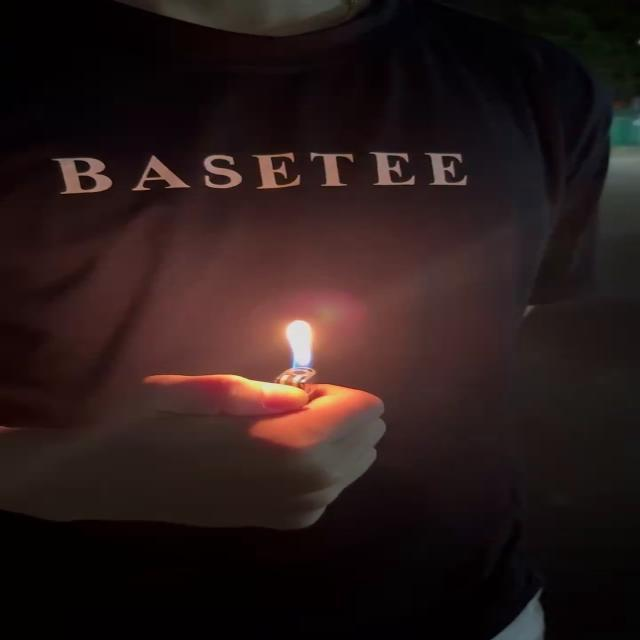Fire: (280, 318, 328, 379)
